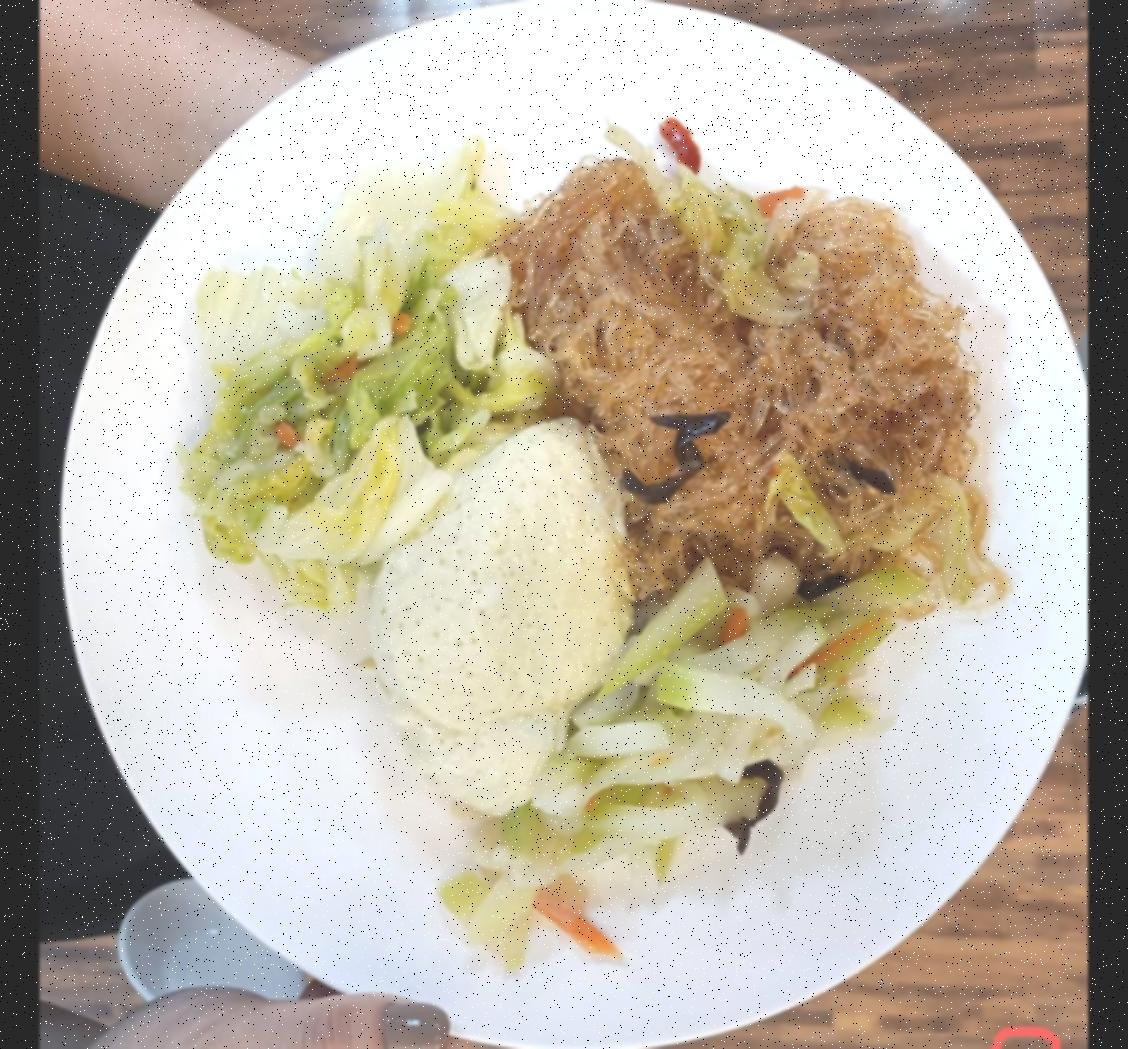big fried chicken leg: (60, 0, 1088, 1049)
big herbal chicken leg: (375, 434, 632, 798)
braised fish fillet: (534, 168, 978, 518), (492, 568, 862, 942), (192, 185, 507, 576)
